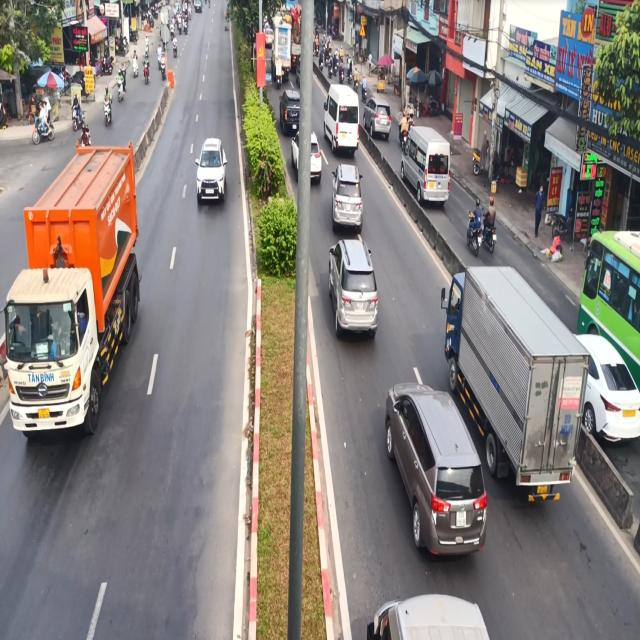car: (380, 368, 495, 565), (326, 228, 378, 352), (400, 113, 463, 213), (191, 126, 228, 226), (325, 83, 365, 158), (332, 164, 366, 238)
truck: (0, 142, 149, 476)
